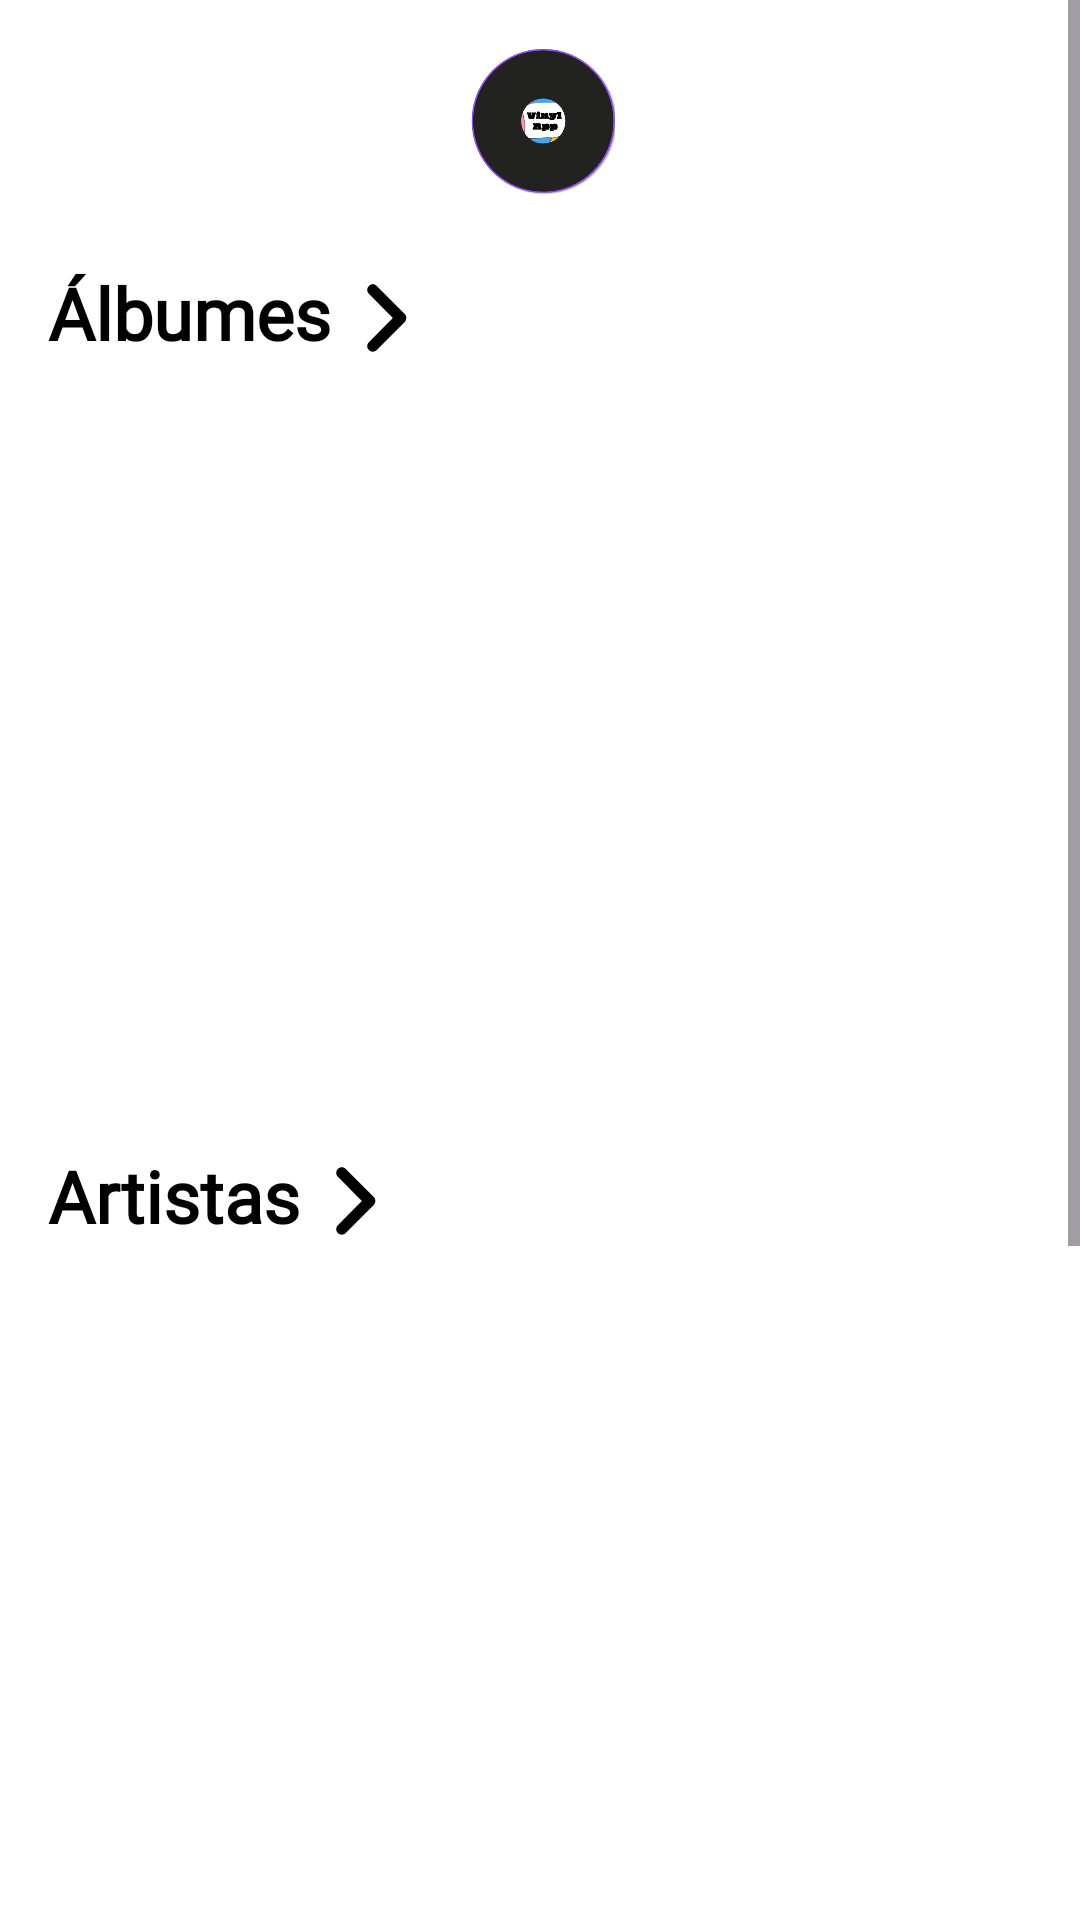

Point at icon controls on the screen. Image size 1080px x 1920px, points as point (x, y).
Home Icon: point (543, 121)
